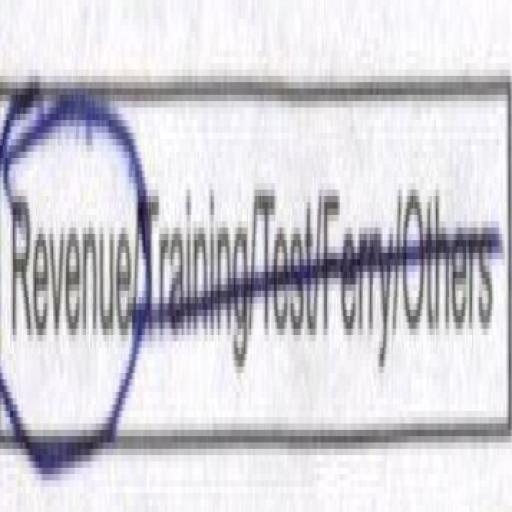check: (3, 66, 137, 495)
